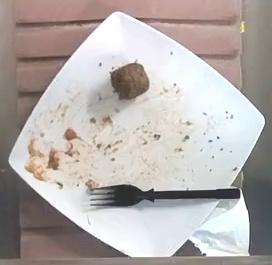sausage: (110, 61, 147, 98)
